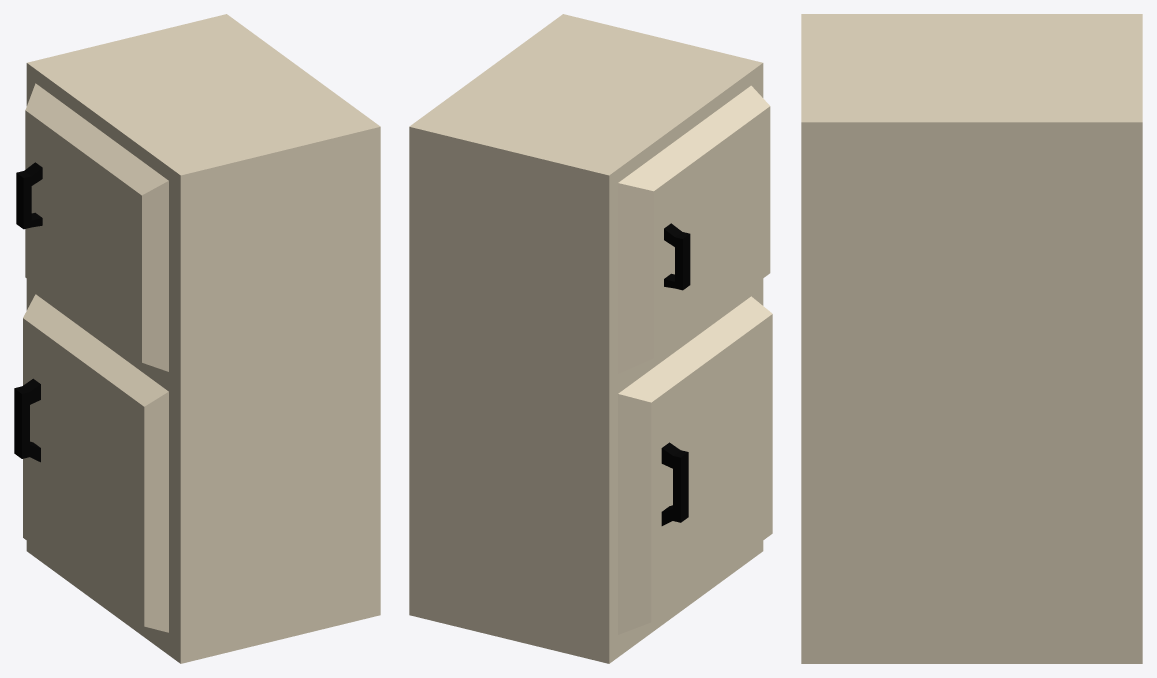
Rendered from Fridge.fbx.
The picture shows the model from 3 angles, left to right: view 1: azimuth 30°, elevation 25°; view 2: azimuth 150°, elevation 25°; view 3: azimuth 270°, elevation 25°; orthographic projection. The views are drawn at different scales.
Parts seen in each view (by area): view 1: Fridge; view 2: Fridge; view 3: Fridge.
Part boxes in pixels (x1=…): Fridge: x1=14, y1=14, x2=380, y2=663; Fridge: x1=409, y1=14, x2=772, y2=663; Fridge: x1=801, y1=14, x2=1142, y2=663.
Bounding box in the file's own units: 7.26 × 14 × 8.
